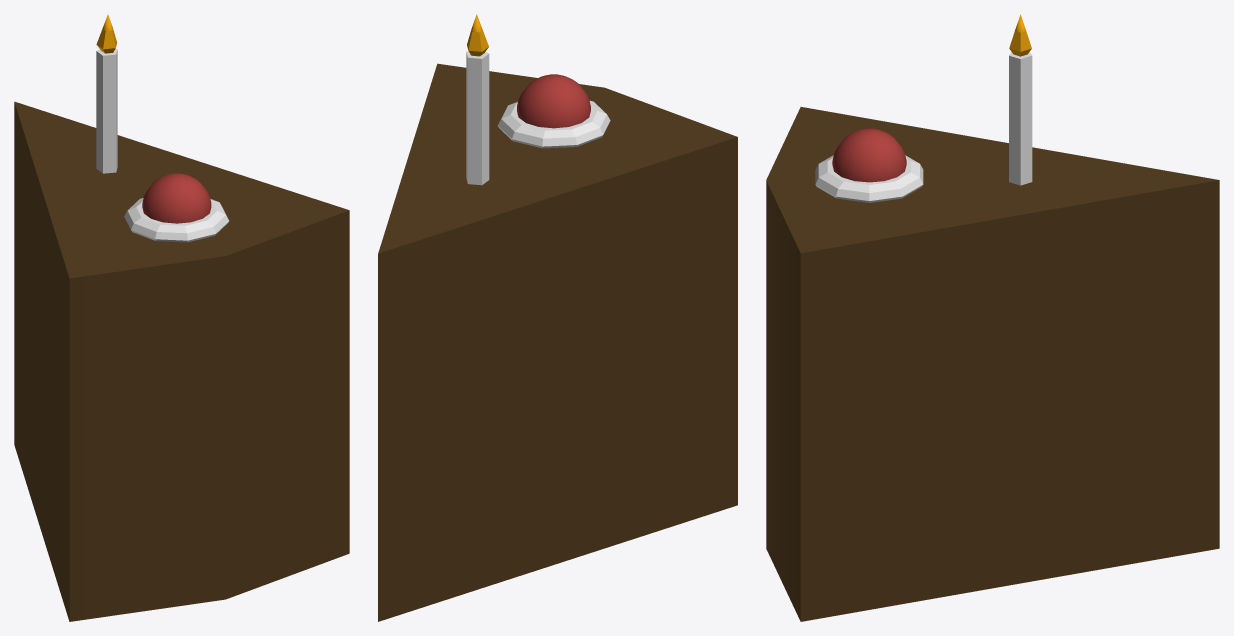
Rendered from CakeSlice.fbx.
3 renders of one model, left to right at view 1: azimuth 30°, elevation 25°; view 2: azimuth 150°, elevation 25°; view 3: azimuth 270°, elevation 25°, orthographic. The views are drawn at different scales.
Parts seen in each view (by area): view 1: CakeSlice, Cherry, CANDLE, pTorus1, pCylinder8; view 2: CakeSlice, Cherry, CANDLE, pTorus1, pCylinder8; view 3: CakeSlice, Cherry, CANDLE, pTorus1.
Boxes of the visible parts, x1,y1,x2,y2 form: CakeSlice: [14, 101, 349, 621]; Cherry: [142, 173, 211, 223]; CANDLE: [96, 48, 117, 173]; pTorus1: [124, 198, 229, 242]; pCylinder8: [96, 14, 117, 53]; CakeSlice: [378, 63, 737, 621]; Cherry: [517, 74, 590, 128]; CANDLE: [466, 51, 489, 185]; pTorus1: [497, 100, 610, 148]; pCylinder8: [467, 14, 488, 56]; CakeSlice: [766, 107, 1219, 621]; Cherry: [832, 128, 906, 182]; CANDLE: [1009, 52, 1032, 185]; pTorus1: [815, 155, 923, 202].
Bounding box in the file's own units: 0.4358 × 0.7413 × 0.5694.
